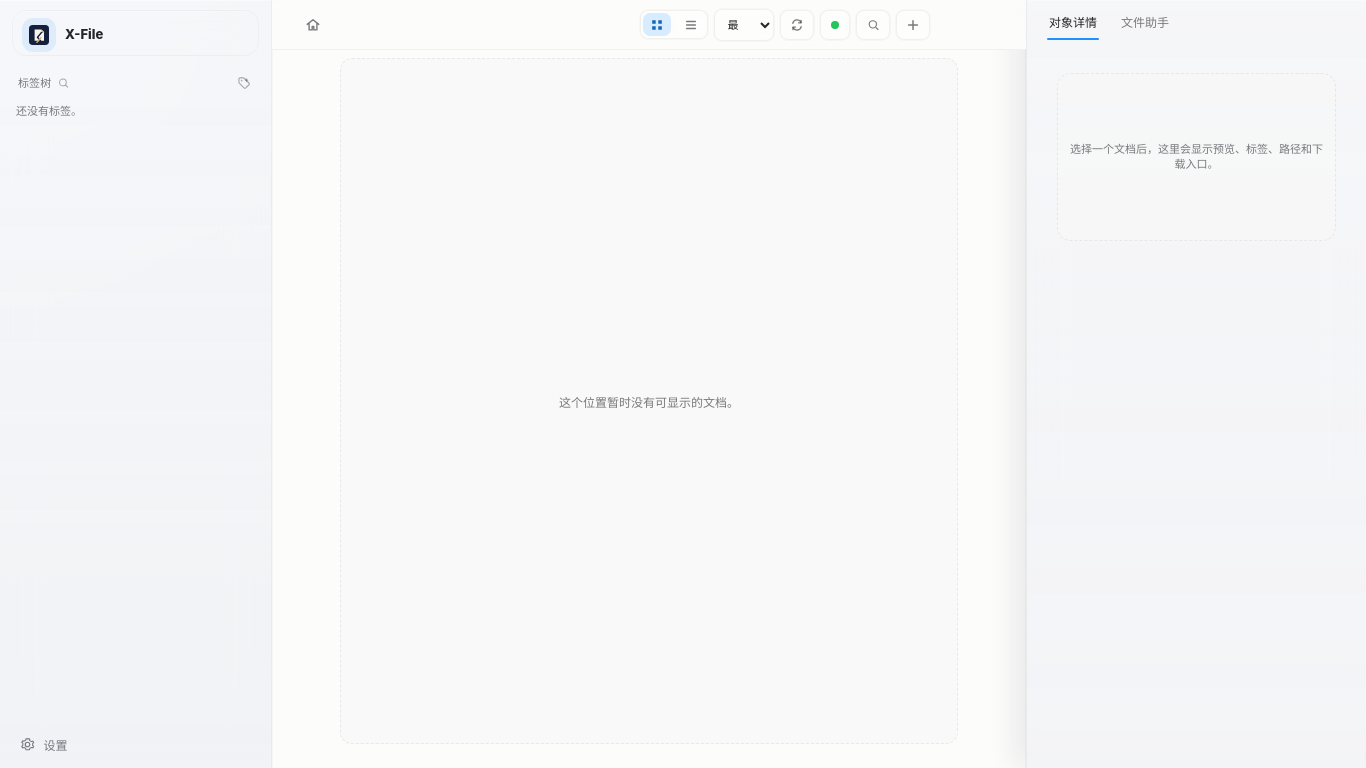
Test: 第 9 批：标签管理、智能规则与全量重算任务 › 标签管理模态框会显示全量标签重算的当前进度
The image size is (1366, 768).
Click the button named "管理标签".
click(244, 83)  # box [233,72,255,94]
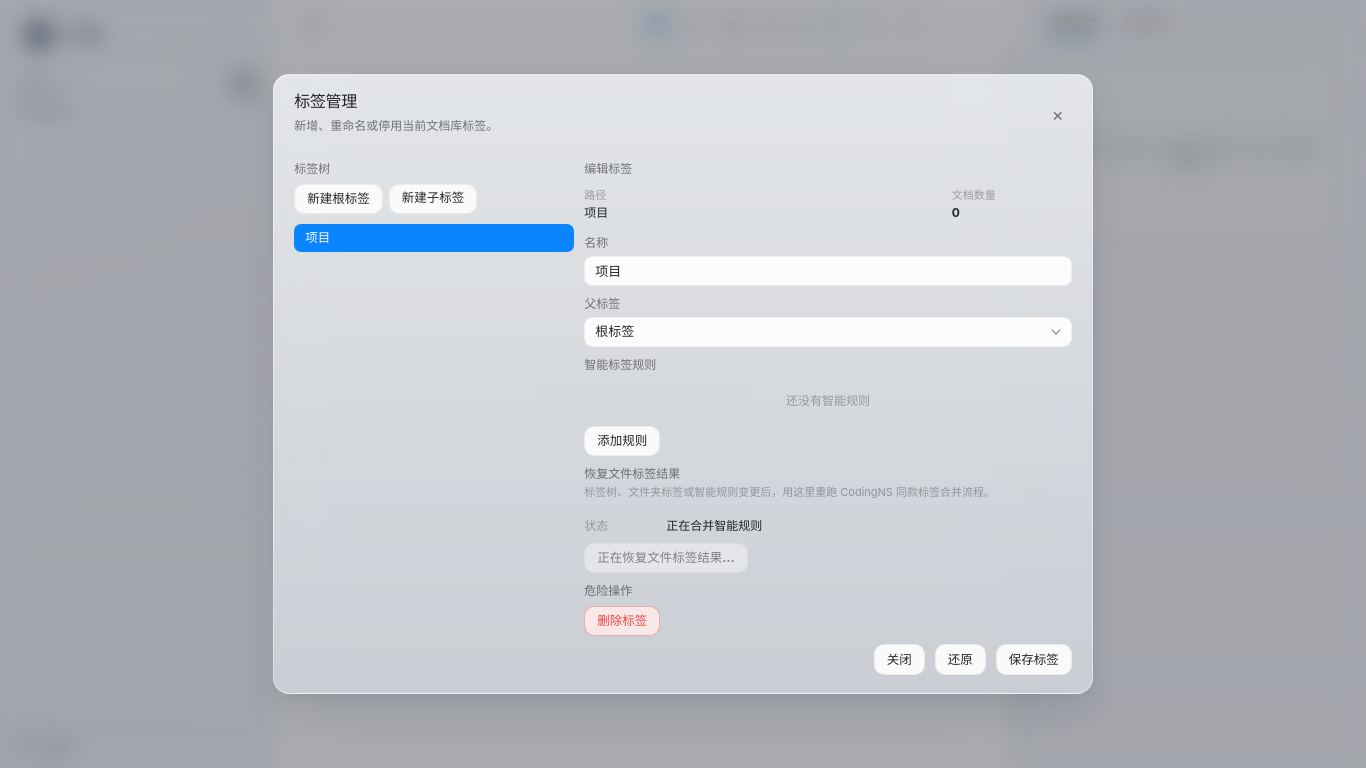
Now the text "正在合并智能规则" is shown, box [666,518,762,533]
Now the button "正在恢复文件标签结果…" is disabled, box [584,543,748,573]
